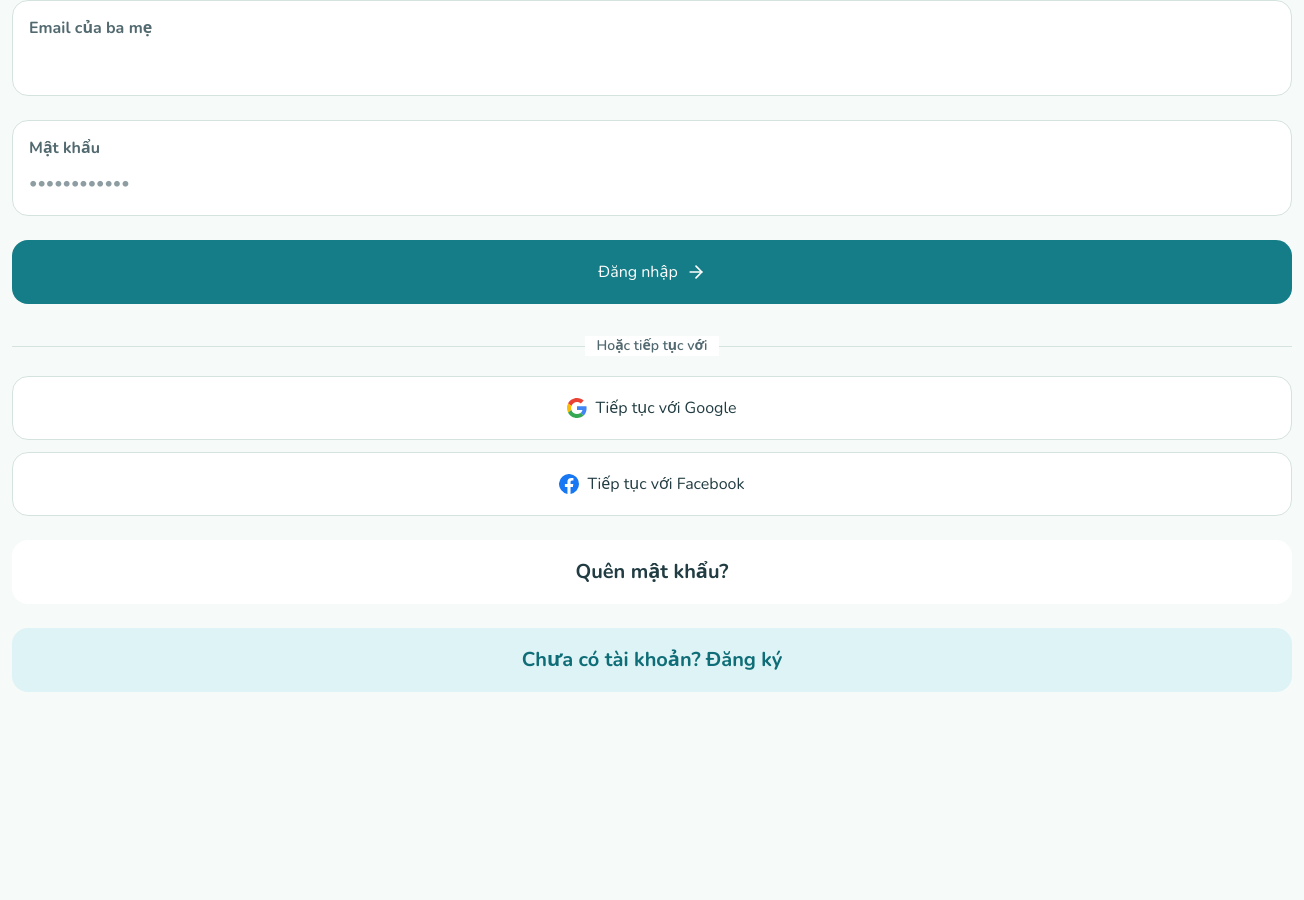
Scenario: LoginForm › shows field-level validation without submitting an invalid form
What coordinates should you click on to do the following:
click the button "Đăng nhập"
I would click on:
 (652, 272)
Its box is [12, 240, 1292, 304].
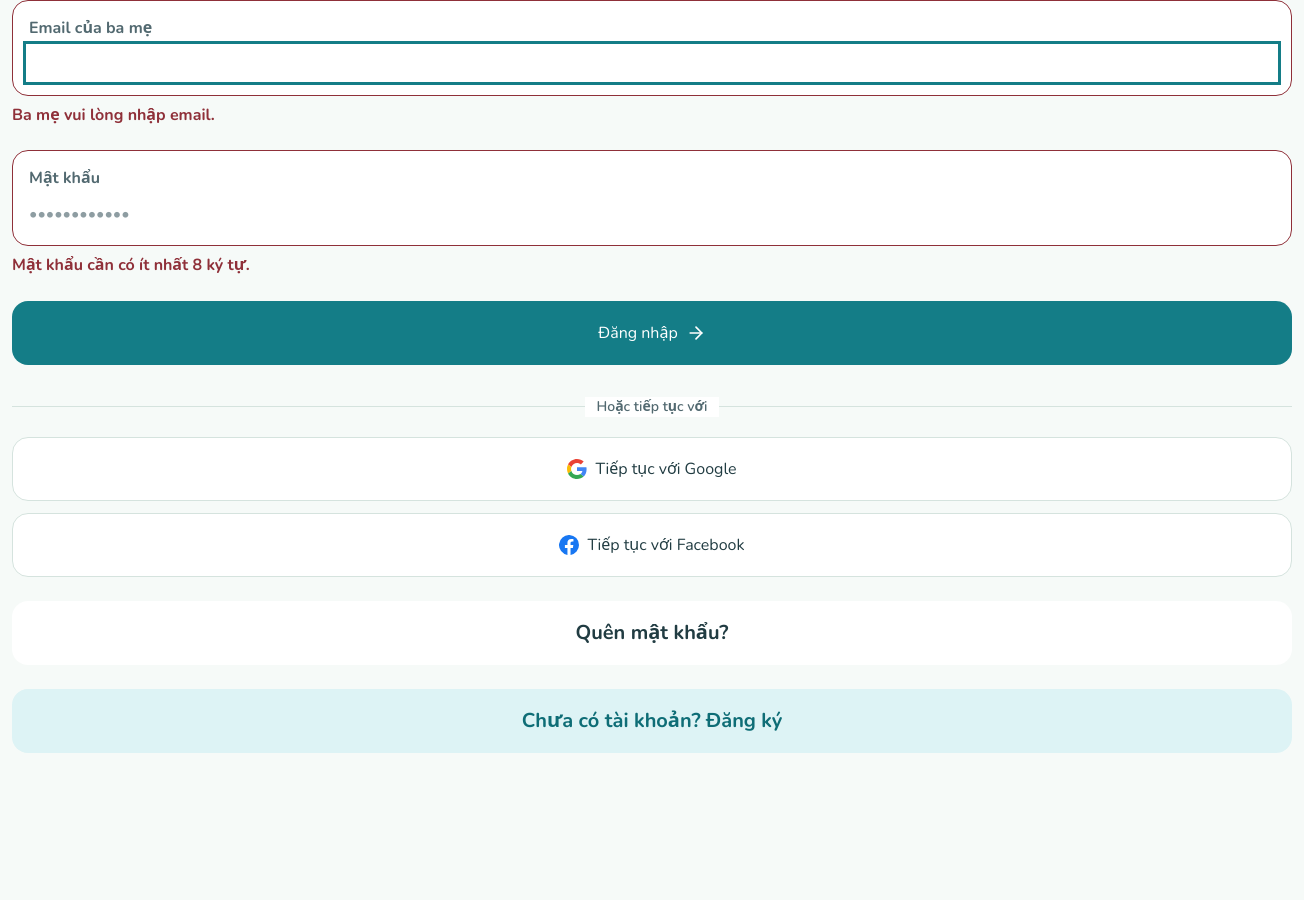
Now the text "Mật khẩu cần có ít nhất 8 ký tự." is shown, box [12, 254, 250, 276]
